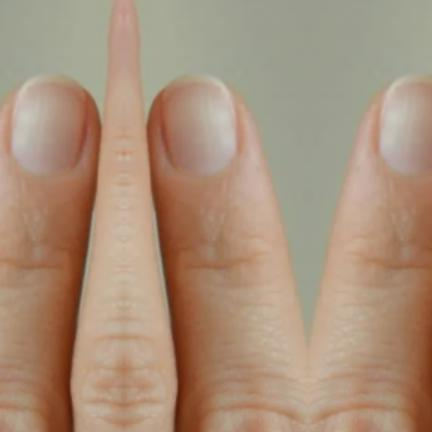Nail: (161, 74, 237, 177), (9, 74, 85, 177), (378, 74, 432, 177)
